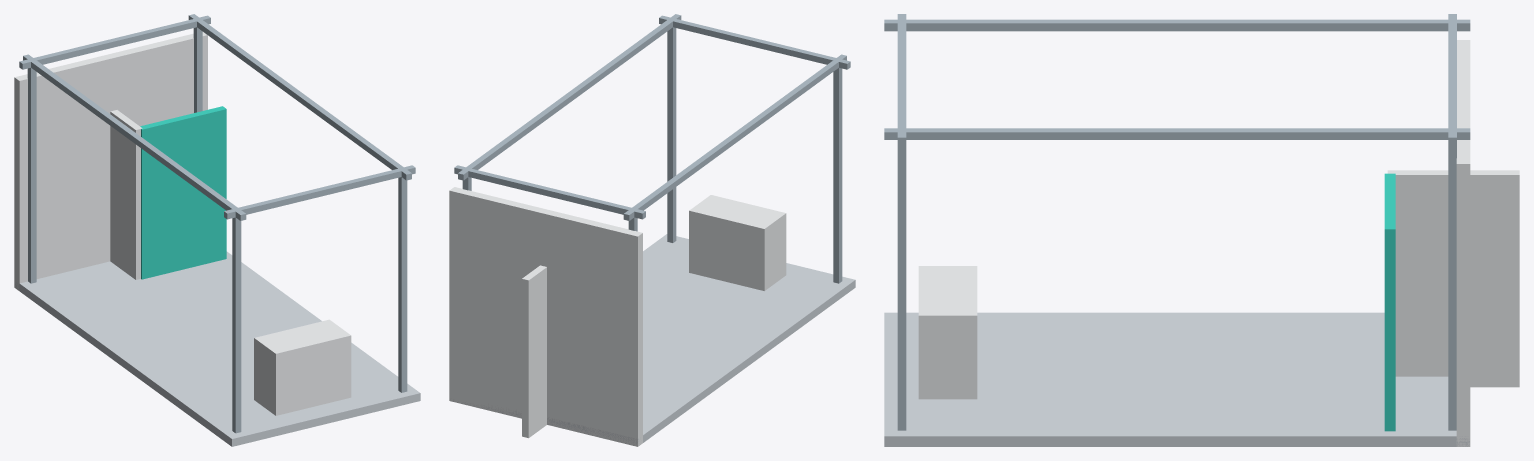
3 renders of one model, left to right at view 1: azimuth 30°, elevation 25°; view 2: azimuth 150°, elevation 25°; view 3: azimuth 270°, elevation 25°, orthographic. The views are drawn at different scales.
Parts seen in each view (by area): view 1: Exhibition Booth Concept; view 2: Exhibition Booth Concept; view 3: Exhibition Booth Concept.
Boxes of the visible parts, left/top/right/bottom form: Exhibition Booth Concept: left=14, top=14, right=420, bottom=446; Exhibition Booth Concept: left=449, top=14, right=855, bottom=446; Exhibition Booth Concept: left=884, top=14, right=1519, bottom=446.
Bounding box in the file's own units: 3 × 3.49 × 6.51.
